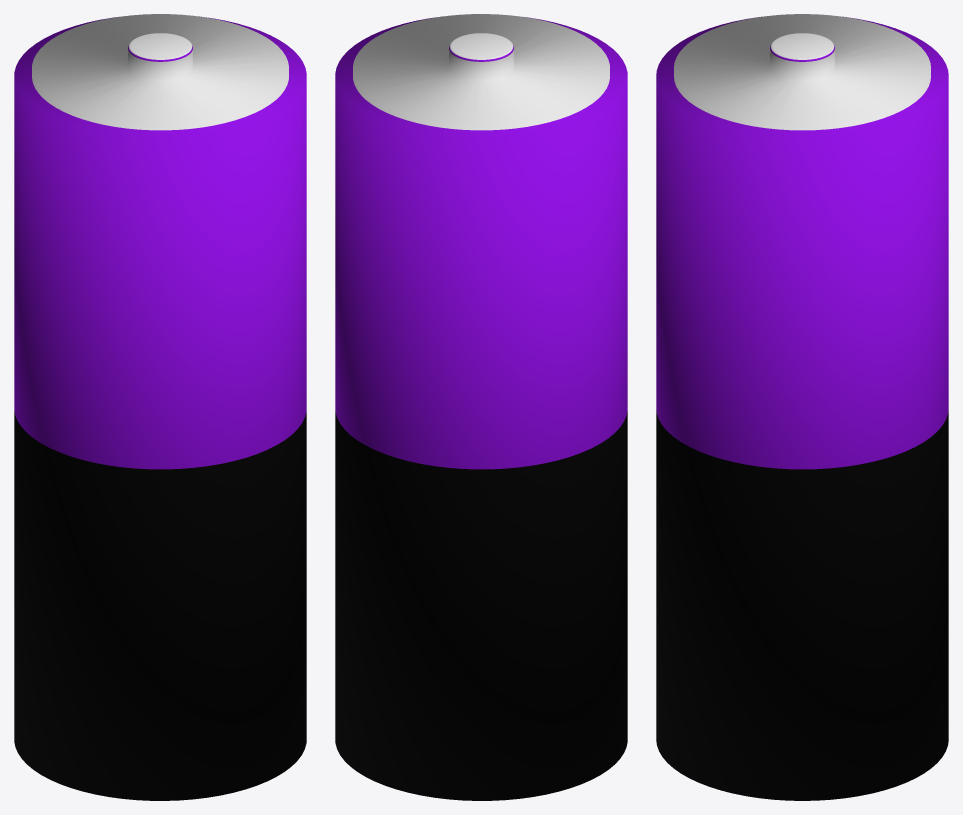
Rendered from Battery.fbx.
The picture shows the model from 3 angles, left to right: view 1: azimuth 30°, elevation 25°; view 2: azimuth 150°, elevation 25°; view 3: azimuth 270°, elevation 25°; orthographic projection.
Visible parts, largest first — view 1: Cylinder; view 2: Cylinder; view 3: Cylinder.
Boxes of the visible parts, bbox=[...] form: Cylinder: bbox=[14, 14, 306, 800]; Cylinder: bbox=[335, 14, 627, 800]; Cylinder: bbox=[656, 14, 948, 800].
Bounding box in the file's own units: 200 × 523 × 200.
